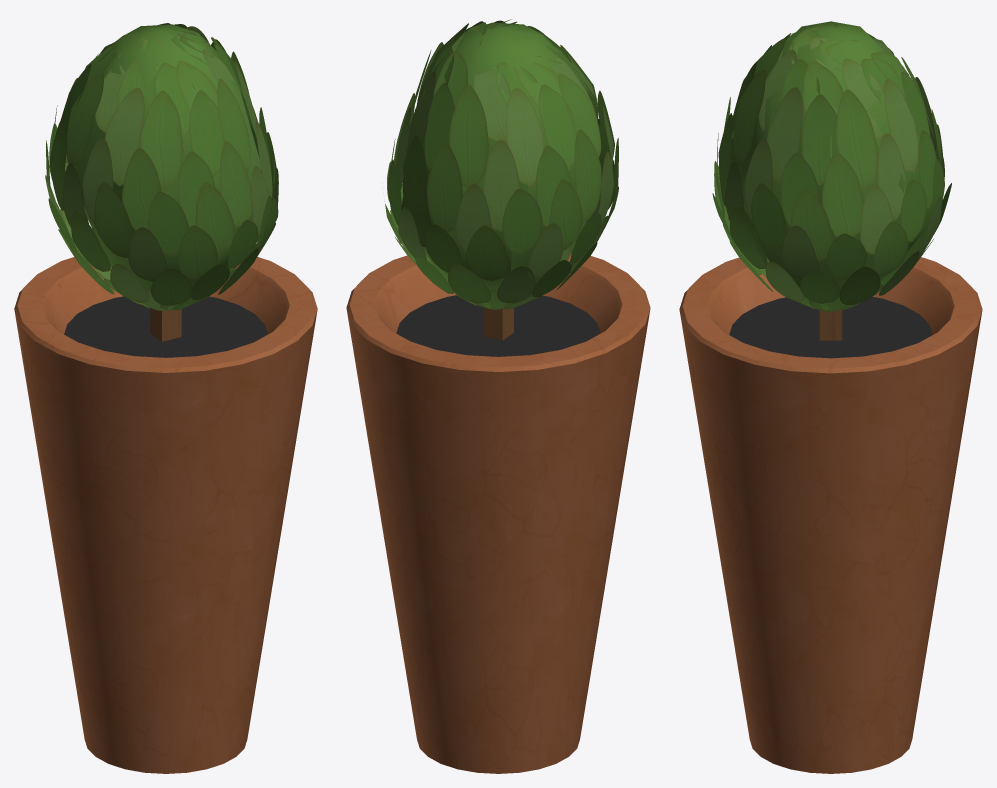
The model's file is PlantPotSmall.glb.
3 views of the same model, side by side, from view 1: azimuth 30°, elevation 25°; view 2: azimuth 150°, elevation 25°; view 3: azimuth 270°, elevation 25° (orthographic).
Visible parts, largest first — view 1: PlantPot; view 2: PlantPot; view 3: PlantPot.
Part boxes in pixels (<box>): PlantPot: <box>14,23,317,773</box>; PlantPot: <box>346,19,650,773</box>; PlantPot: <box>679,21,982,773</box>.
Size of the model in its own units: 0.9206 by 2.39 by 0.9206.
4 materials, 3 textured.
